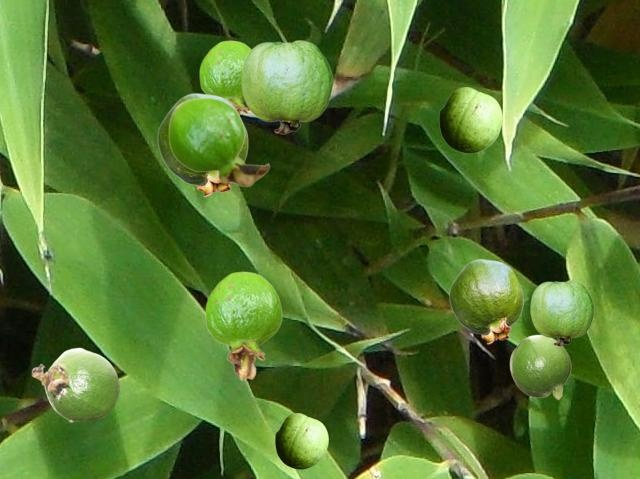guava: (157, 93, 247, 196), (168, 97, 269, 186), (241, 40, 332, 133), (205, 271, 281, 379), (31, 347, 119, 421), (449, 259, 522, 343), (530, 280, 593, 345), (439, 87, 501, 152), (509, 334, 570, 399), (199, 40, 250, 114), (275, 413, 327, 468)
